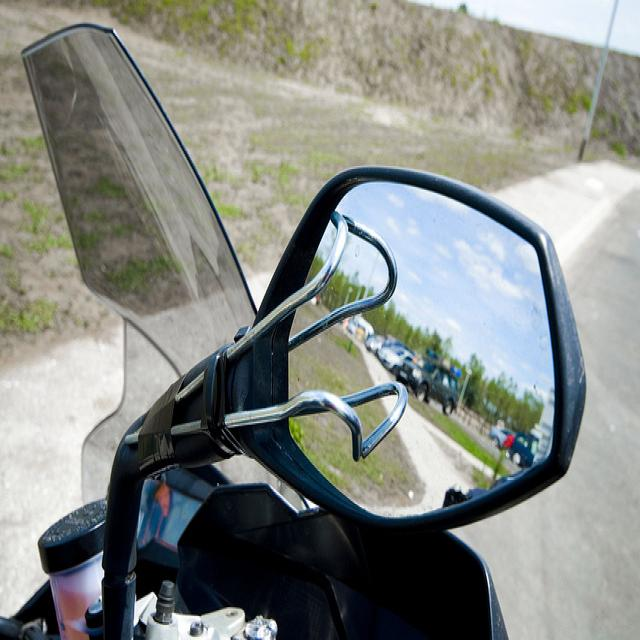motor: (0, 22, 587, 640)
